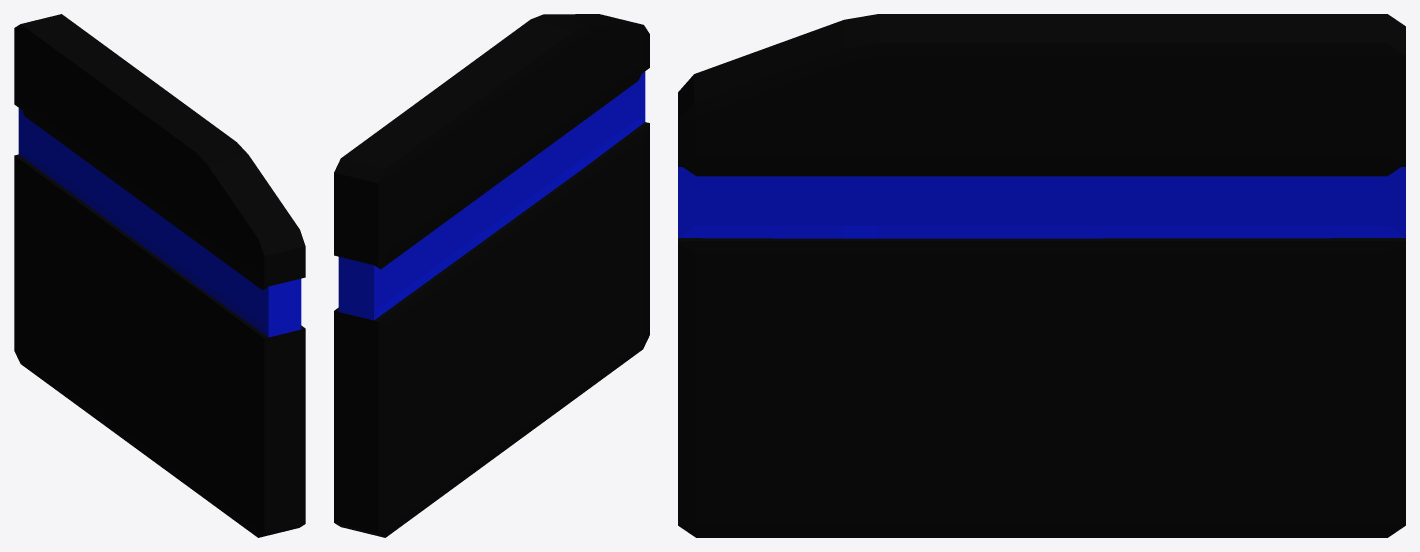
File: KeyCard.fbx
3 views of the same model, side by side, from view 1: azimuth 30°, elevation 25°; view 2: azimuth 150°, elevation 25°; view 3: azimuth 270°, elevation 25° (orthographic). The views are drawn at different scales.
Parts seen in each view (by area): view 1: Cube; view 2: Cube; view 3: Cube.
Part boxes in pixels (x1=…): Cube: x1=14, y1=14, x2=305, y2=537; Cube: x1=334, y1=14, x2=649, y2=537; Cube: x1=678, y1=14, x2=1405, y2=537.
Bounding box in the file's own units: 20 × 150 × 200.
